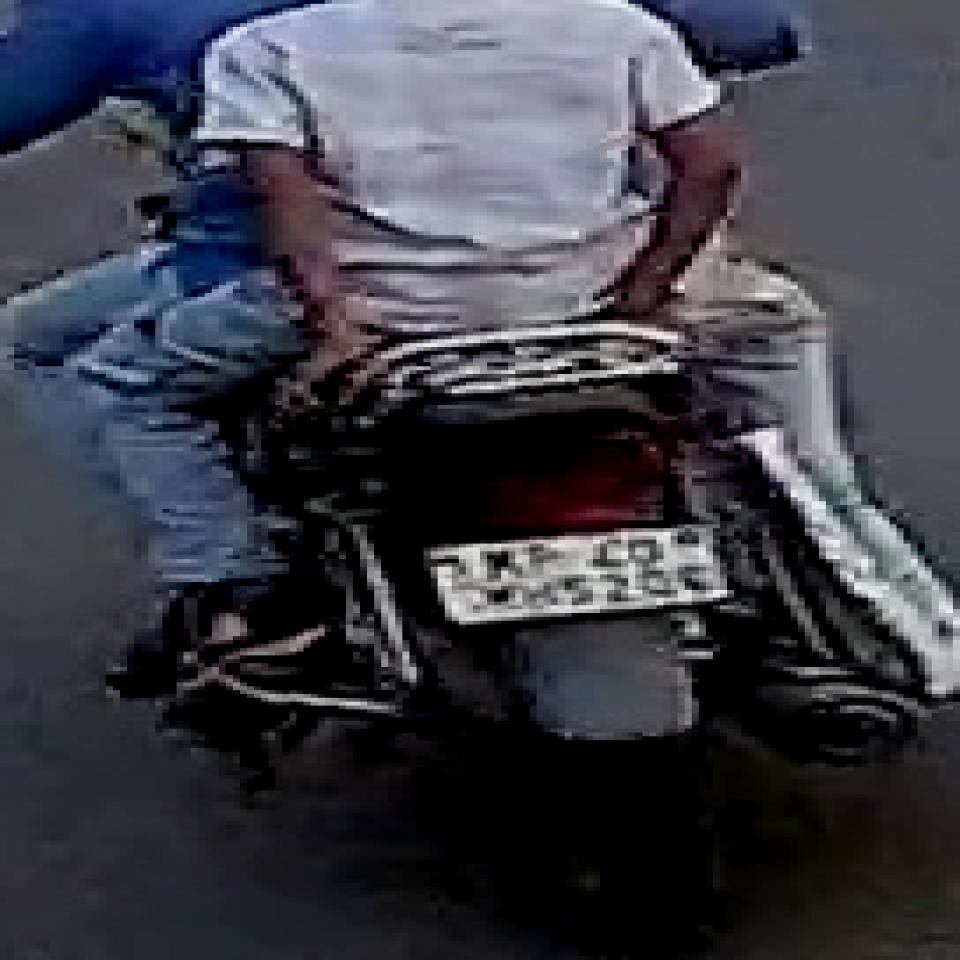tail_light: (460, 442, 682, 531)
